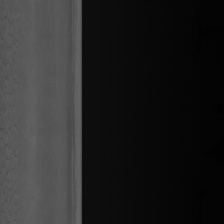silk_spot: (2, 12, 25, 197)
